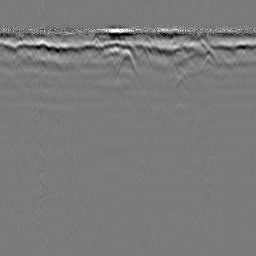cavity: (115, 47, 139, 78)
